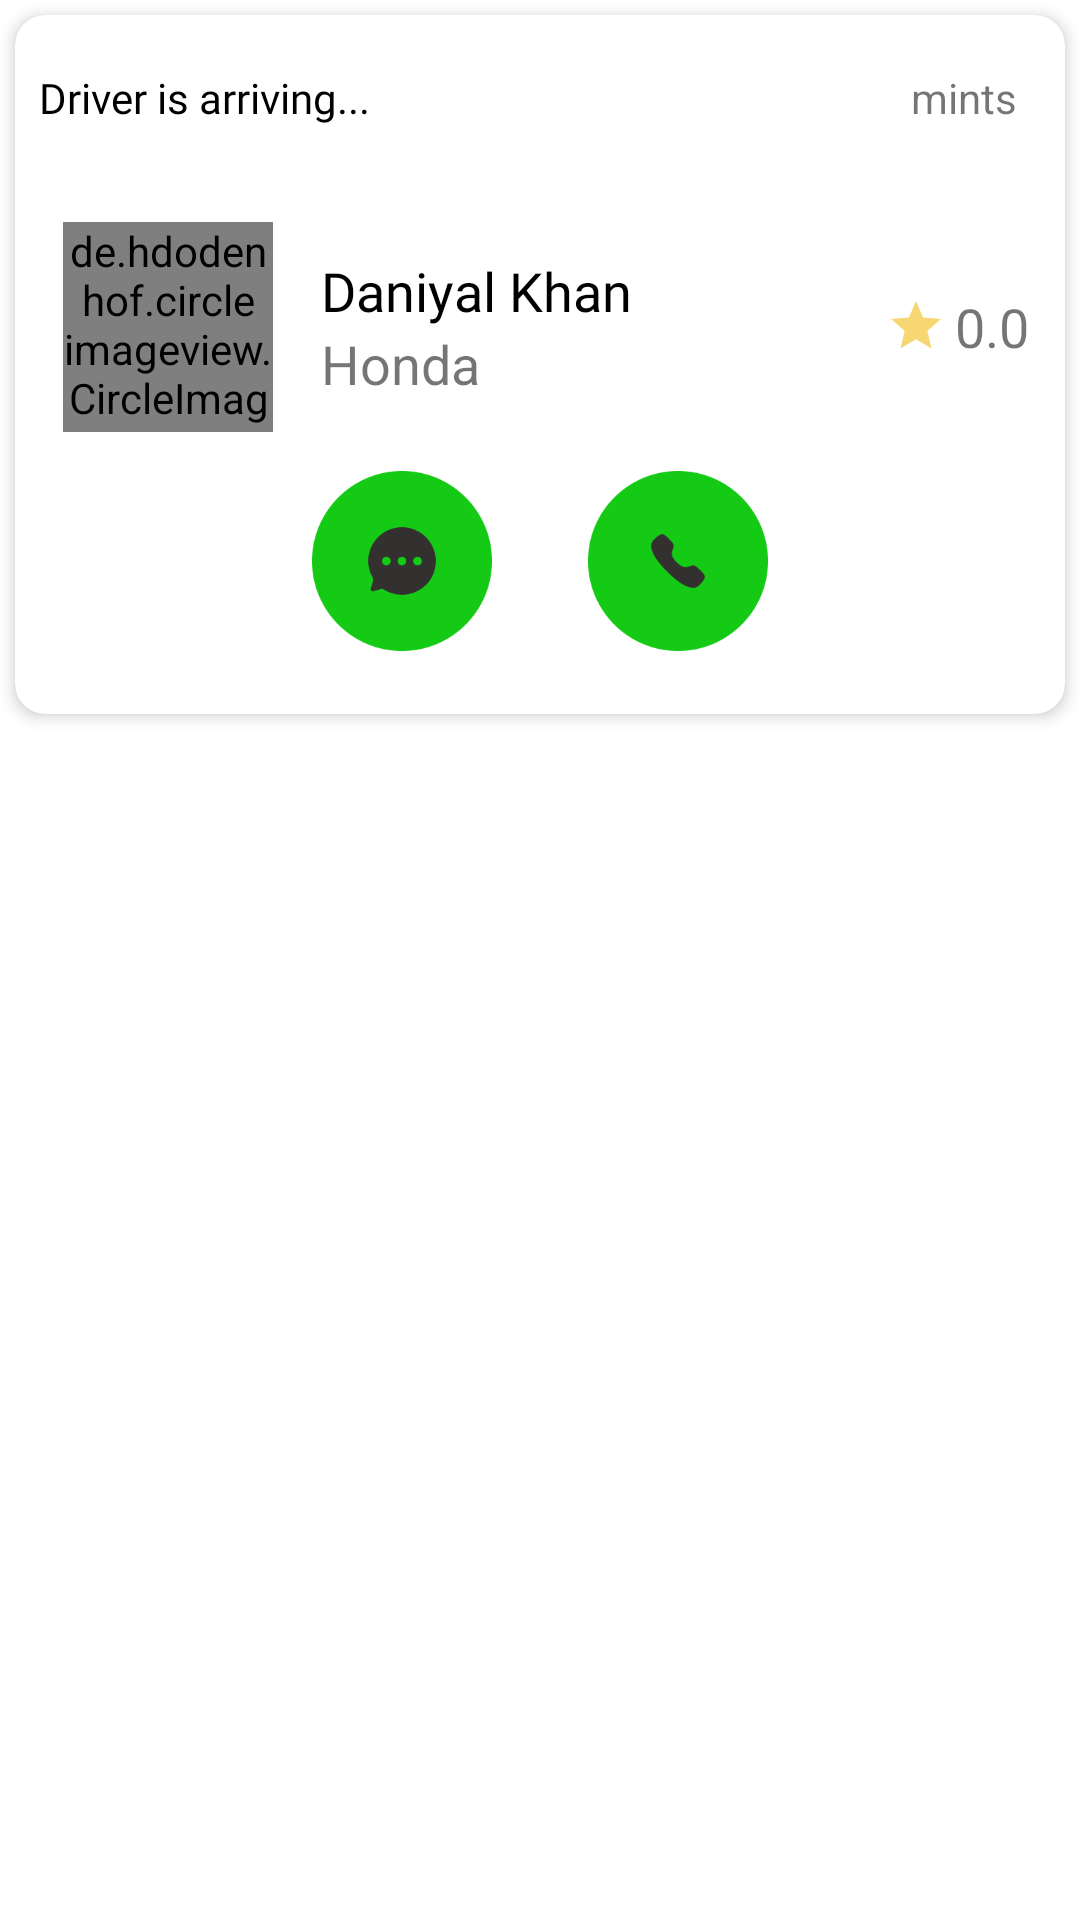

Where icons sit on this 1080×1920 app screen, as (x1, y1, x2, y2):
call: (588, 471, 768, 651)
chat: (312, 471, 492, 651)
star: (891, 301, 941, 348)
